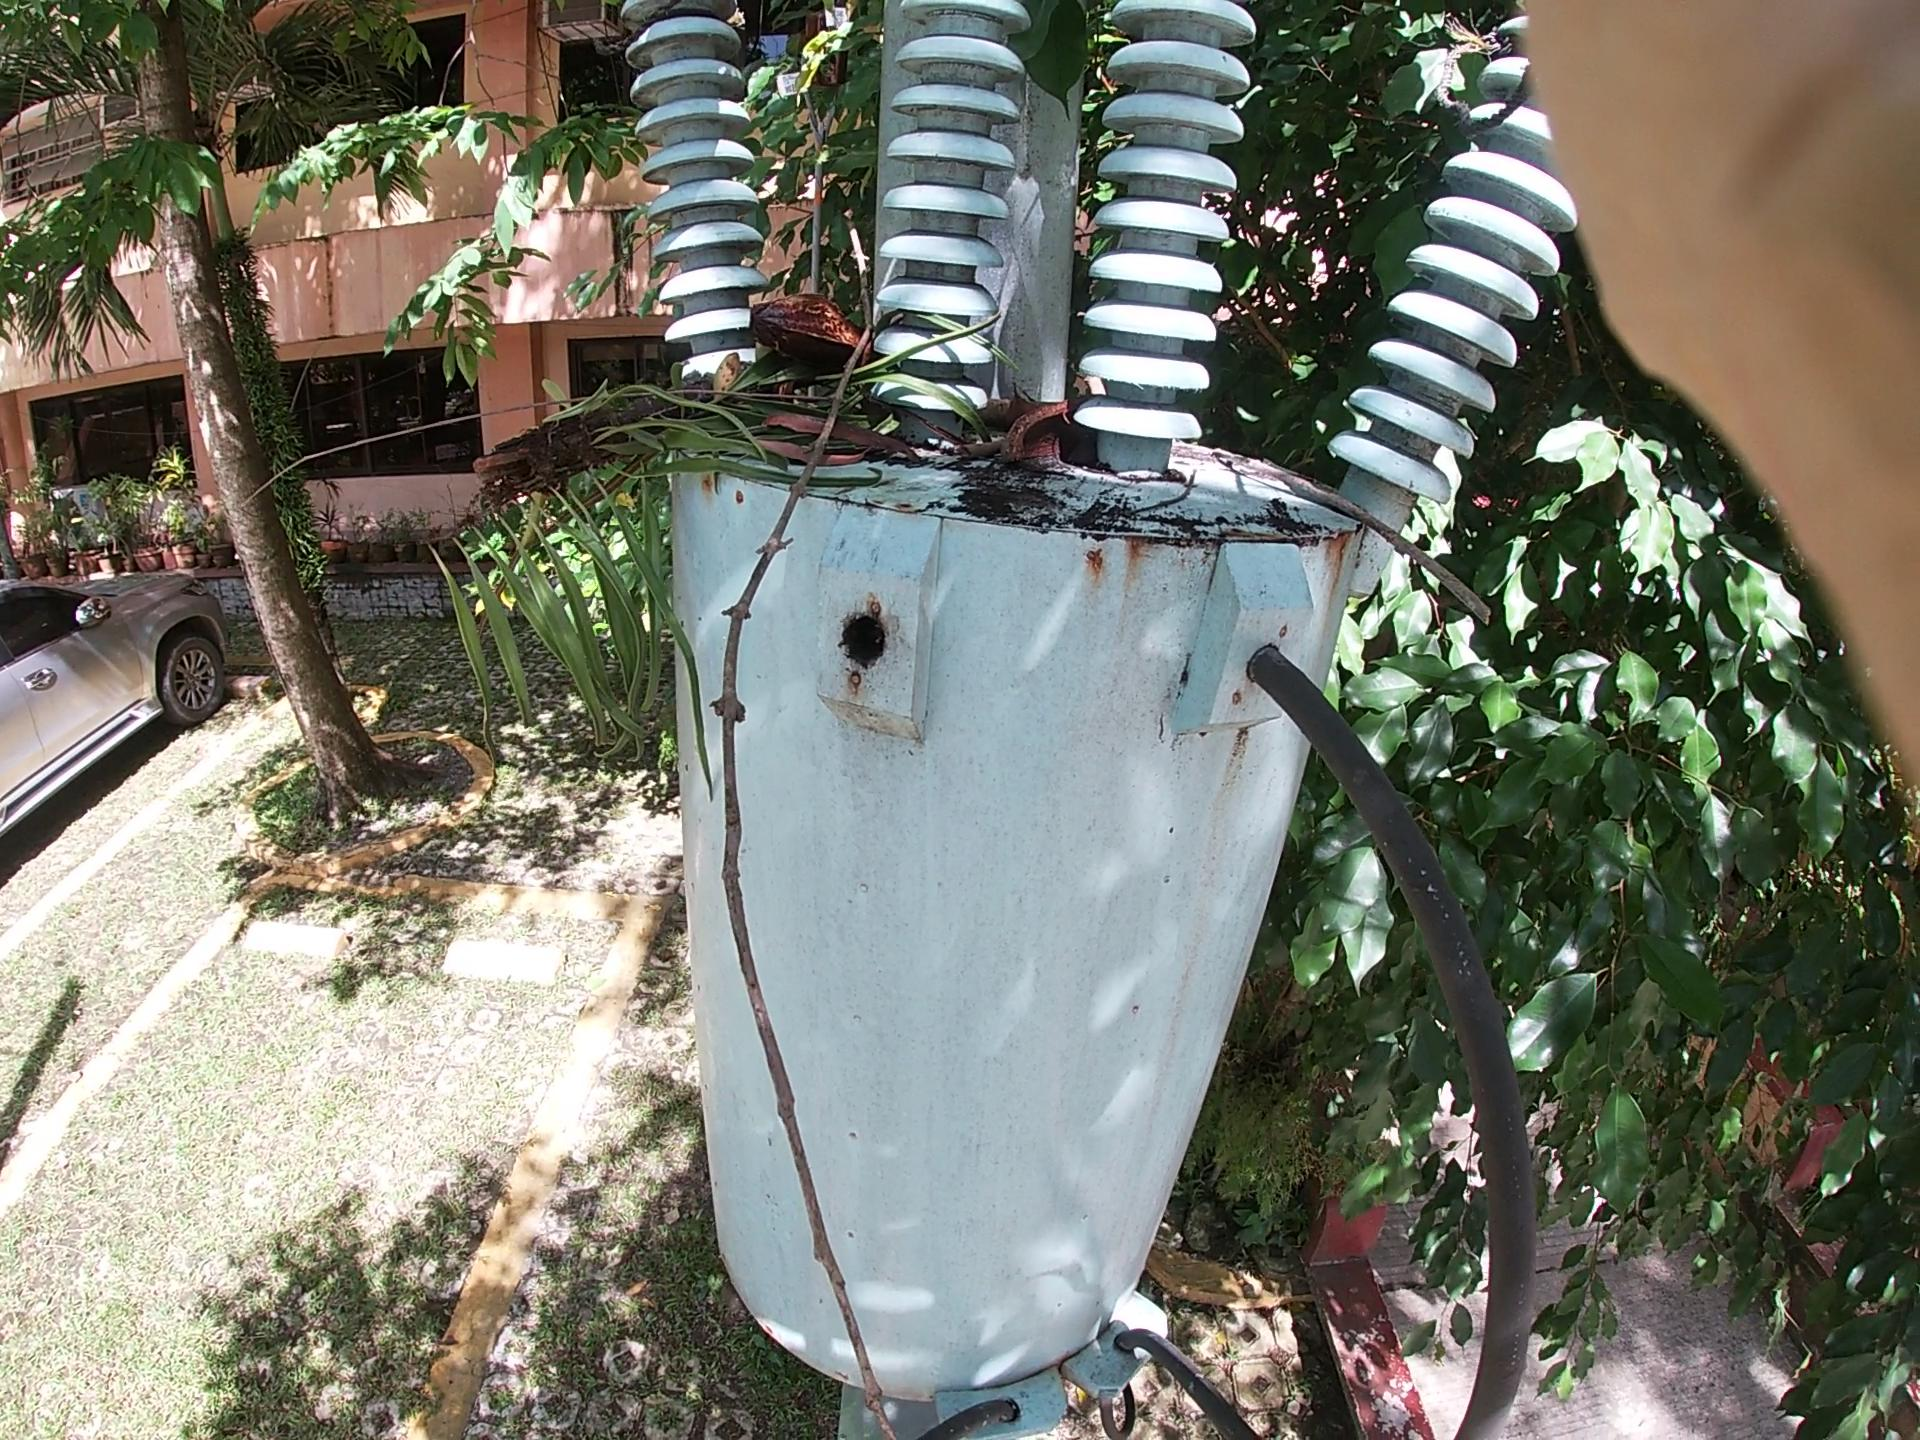branch with leaves: (373, 185, 1128, 777)
leaf: (800, 15, 1308, 331)
mahogany fruit: (800, 277, 921, 393), (1020, 386, 1113, 501)
tree branch: (639, 119, 972, 1440), (1157, 402, 1528, 702), (921, 413, 1152, 582)
